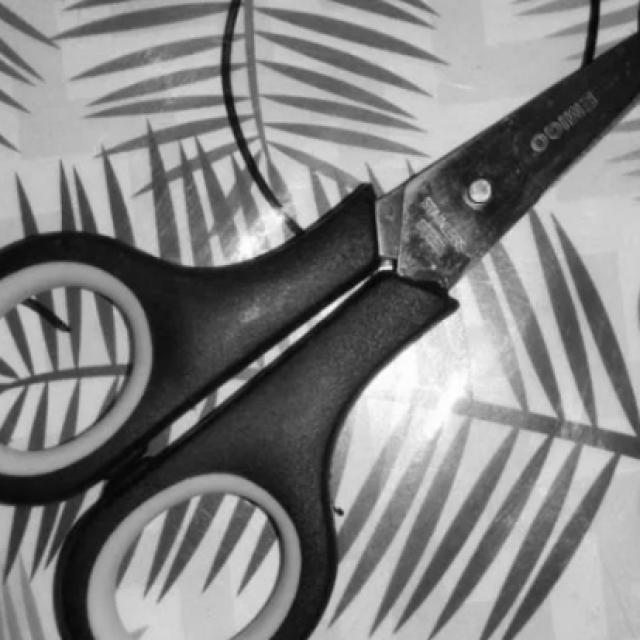tesoura: (0, 31, 639, 639)
